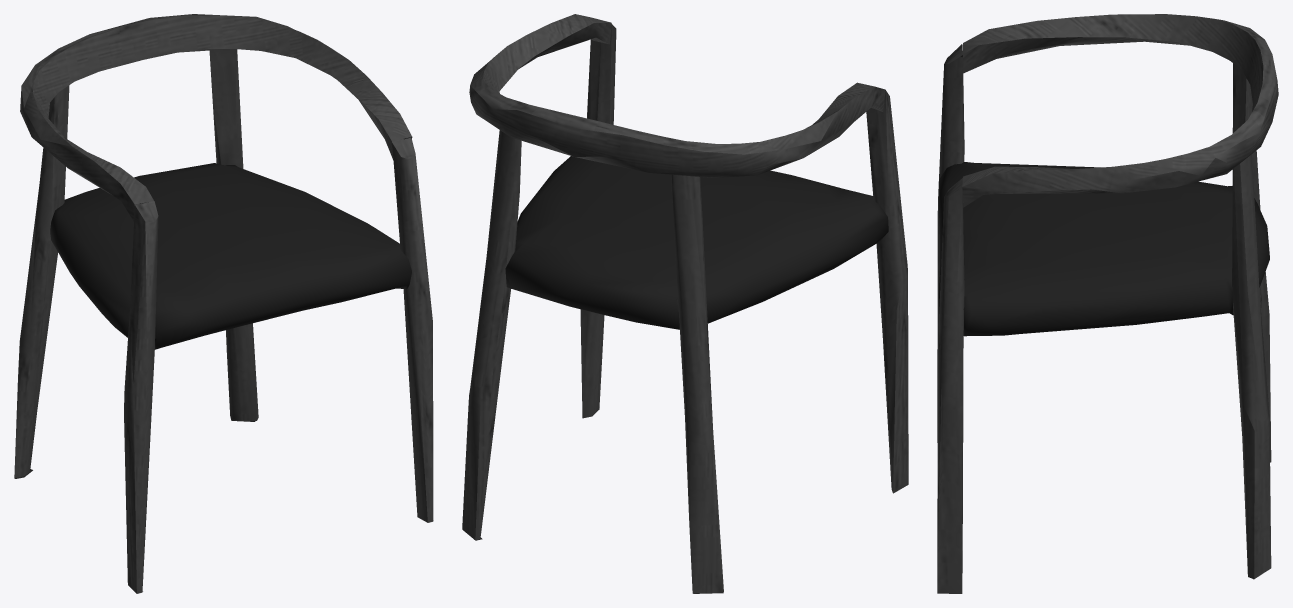
The model's file is Chair0017.obj.
The picture shows the model from 3 angles, left to right: view 1: azimuth 30°, elevation 25°; view 2: azimuth 150°, elevation 25°; view 3: azimuth 270°, elevation 25°; orthographic projection. The views are drawn at different scales.
Bounding box in the file's own units: 0.667 × 0.867 × 0.599.
Materials: 1 (1 with a texture image).
